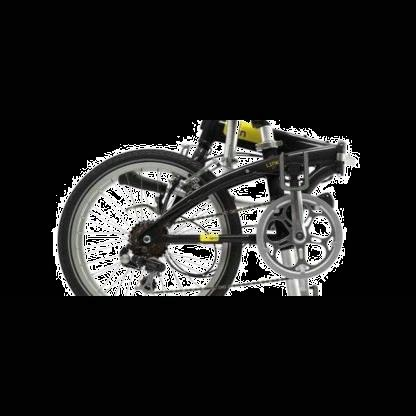Bicycle: (48, 112, 367, 292)
